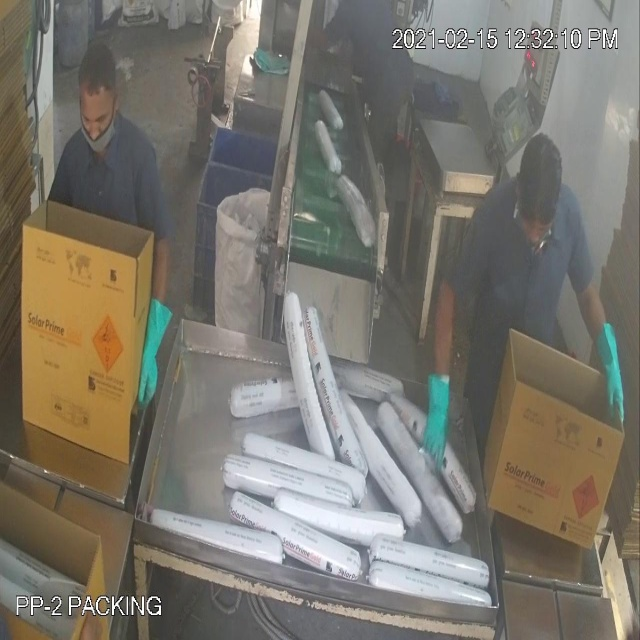Guantes: (582, 294, 634, 448), (409, 340, 460, 482), (124, 285, 179, 414)
